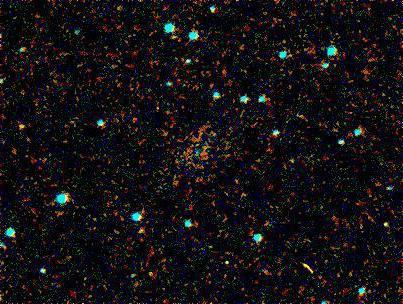star: (7, 109, 37, 139)
